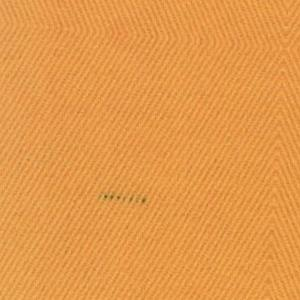stain: (96, 188, 157, 210)
